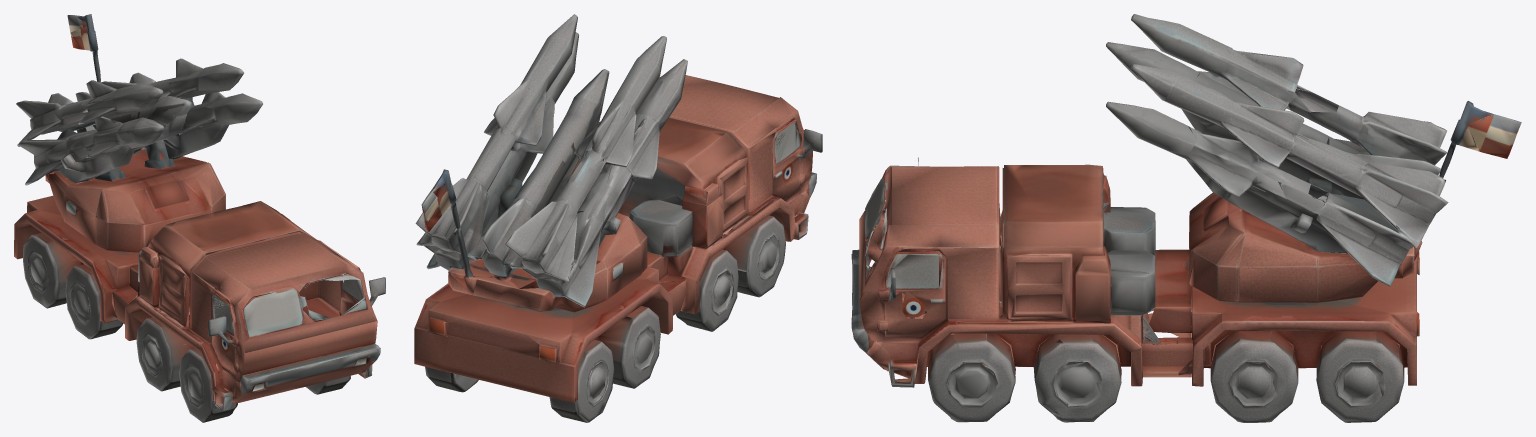
File: 导弹车.glb
The picture shows the model from 3 angles, left to right: view 1: azimuth 30°, elevation 25°; view 2: azimuth 150°, elevation 25°; view 3: azimuth 270°, elevation 25°; orthographic projection. The views are drawn at different scales.
Parts seen in each view (by area): view 1: tripo_part_0, tripo_part_3, tripo_part_25, tripo_part_1, tripo_part_2, tripo_part_26, tripo_part_4, tripo_part_7, tripo_part_38, tripo_part_8, tripo_part_15, tripo_part_23 (+18 smaller); view 2: tripo_part_1, tripo_part_0, tripo_part_4, tripo_part_3, tripo_part_2, tripo_part_25, tripo_part_12, tripo_part_15, tripo_part_13, tripo_part_22, tripo_part_16, tripo_part_24 (+20 smaller); view 3: tripo_part_0, tripo_part_3, tripo_part_4, tripo_part_1, tripo_part_25, tripo_part_7, tripo_part_15, tripo_part_10, tripo_part_12, tripo_part_9, tripo_part_11, tripo_part_6 (+21 smaller).
Part boxes in pixels (x1,y1,x2,y2): tripo_part_0: (125,233,385,411); tripo_part_3: (45,149,225,252); tripo_part_25: (148,201,318,328); tripo_part_1: (14,195,189,323); tripo_part_2: (18,115,134,185); tripo_part_26: (232,344,380,402); tripo_part_4: (101,58,243,100); tripo_part_7: (144,93,262,161); tripo_part_38: (243,287,306,337); tripo_part_8: (23,233,81,308); tripo_part_15: (78,80,163,124); tripo_part_23: (136,317,195,391); tripo_part_1: (414,267,682,402); tripo_part_0: (648,75,822,314); tripo_part_4: (415,14,577,263); tripo_part_3: (448,213,647,312); tripo_part_2: (522,114,665,307); tripo_part_25: (599,118,745,217); tripo_part_12: (503,159,603,282); tripo_part_15: (574,36,666,174); tripo_part_13: (514,69,609,216); tripo_part_22: (597,306,660,388); tripo_part_16: (629,200,692,257); tripo_part_24: (723,215,785,297); tripo_part_0: (859,165,1149,387); tripo_part_3: (1189,192,1414,302); tripo_part_4: (1130,64,1448,249); tripo_part_1: (1168,251,1419,386); tripo_part_25: (999,164,1104,318); tripo_part_7: (1106,101,1347,252); tripo_part_15: (1131,14,1314,112); tripo_part_10: (1210,331,1298,422); tripo_part_12: (1287,89,1446,165); tripo_part_9: (1316,331,1404,422); tripo_part_11: (1033,334,1121,422); tripo_part_6: (928,333,1015,422).
Size of the model in its own units: 0.3703 by 0.5533 by 0.9807.
Materials: 60 (60 with a texture image).
